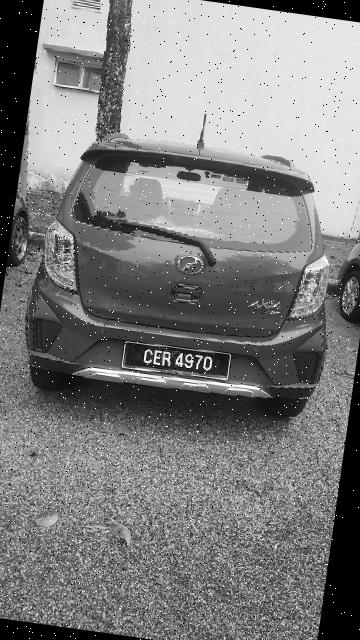License_Plate: (112, 330, 252, 390)
car: (11, 113, 359, 437)
